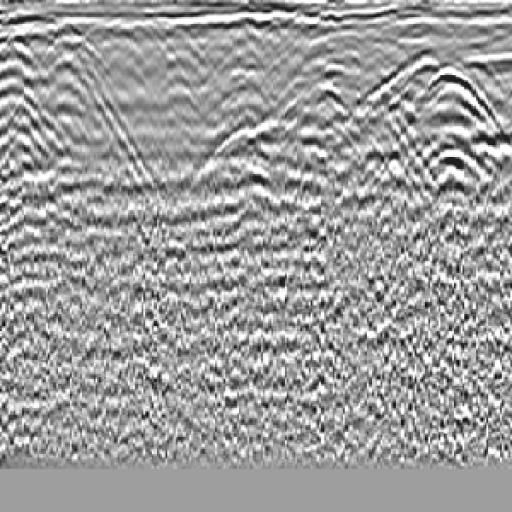non-metallic: (334, 38, 512, 257)
